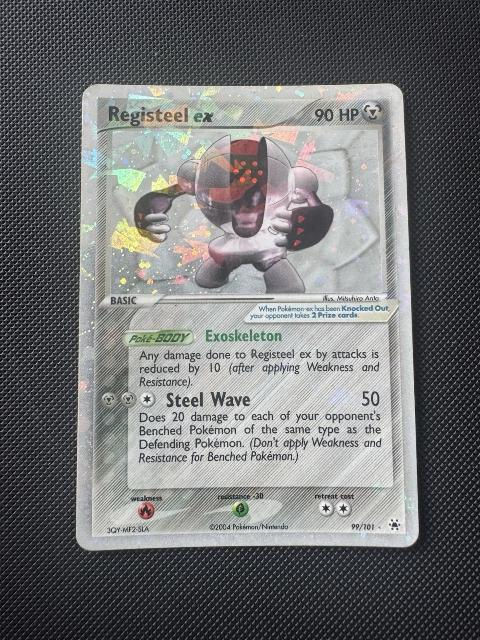Card: (72, 79, 423, 554)
Name: (101, 99, 231, 133)
